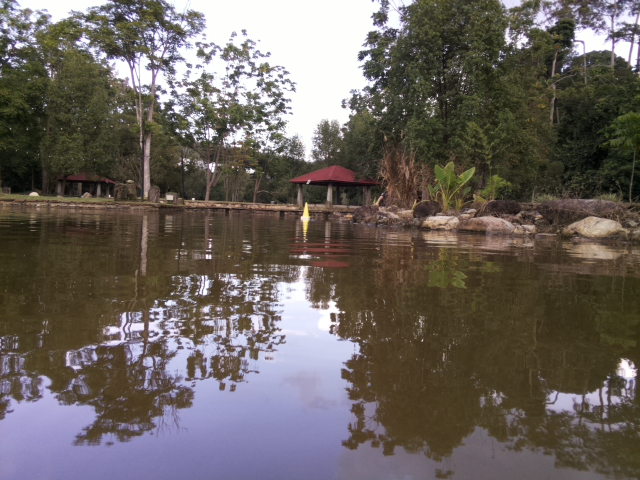checkpoint: (298, 202, 314, 221)
